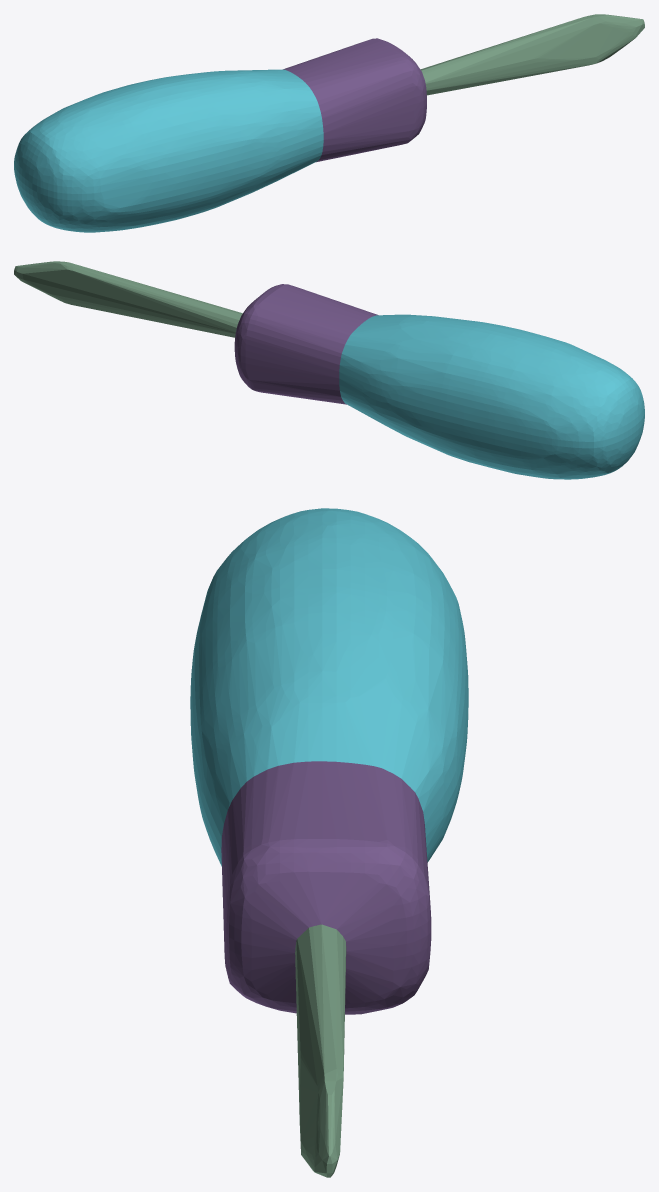
Rendered from short_screwdriver.obj.
3 renders of one model, top to bottom at view 1: azimuth 30°, elevation 25°; view 2: azimuth 150°, elevation 25°; view 3: azimuth 270°, elevation 25°, orthographic. The views are drawn at different scales.
Visible parts, largest first — view 1: geometry_2, geometry_1, geometry_0; view 2: geometry_2, geometry_1, geometry_0; view 3: geometry_2, geometry_1, geometry_0.
Boxes of the visible parts, x1,y1,x2,y2 form: geometry_2: (14, 69, 323, 232); geometry_1: (283, 38, 426, 162); geometry_0: (420, 14, 644, 95); geometry_2: (339, 314, 644, 479); geometry_1: (234, 284, 378, 404); geometry_0: (14, 261, 242, 337); geometry_2: (190, 508, 468, 866); geometry_1: (221, 761, 431, 1014); geometry_0: (295, 924, 346, 1177).
Bounding box in the file's own units: 0.1909 × 0.0372 × 0.0372.
